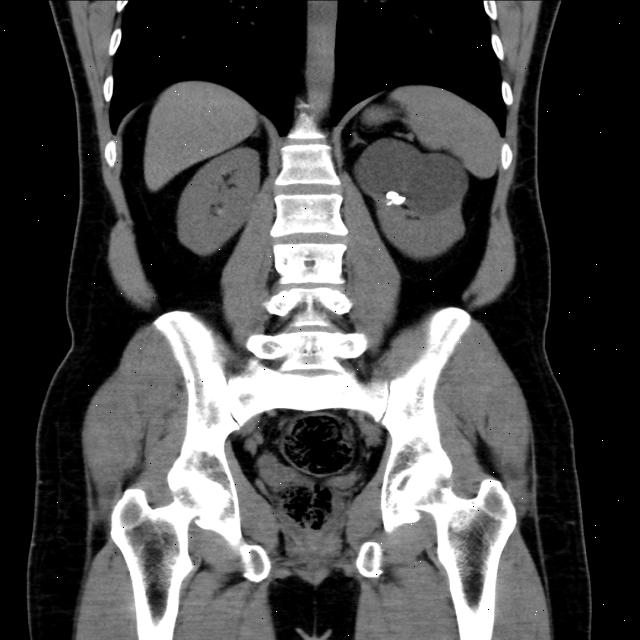kidneystone: (385, 191, 406, 205)
